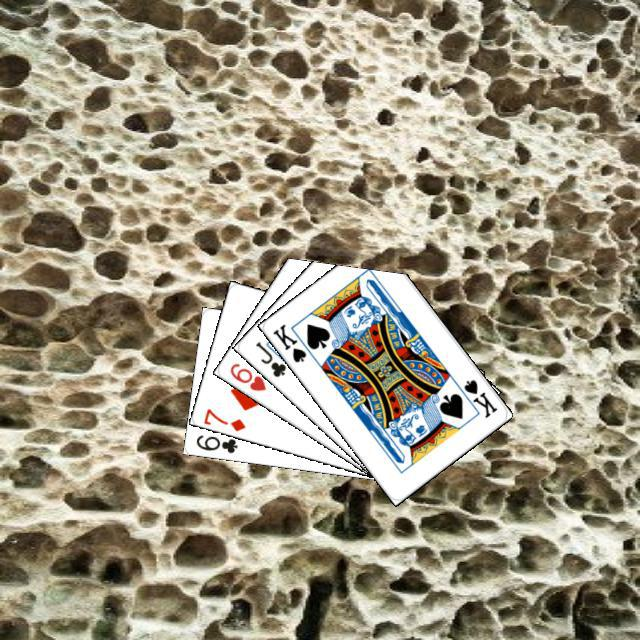6c: (191, 430, 239, 455)
6h: (225, 358, 268, 393)
7d: (199, 404, 247, 433)
Jc: (251, 337, 288, 379)
Ks: (451, 374, 499, 420), (268, 319, 308, 364)
